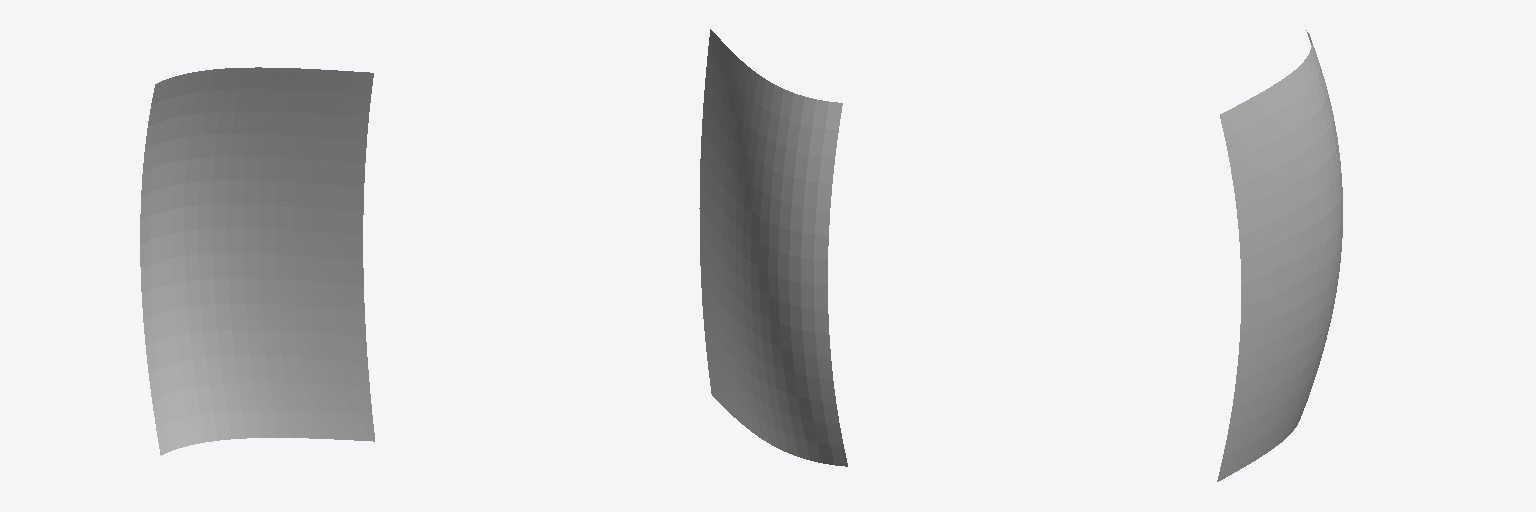
The model's file is road2.obj.
3 renders of one model, left to right at view 1: azimuth 30°, elevation 25°; view 2: azimuth 150°, elevation 25°; view 3: azimuth 270°, elevation 25°, orthographic.
Visible parts, largest first — view 1: SurfPatch; view 2: SurfPatch; view 3: SurfPatch.
Boxes of the visible parts, x1,y1,x2,y2 form: SurfPatch: [140, 67, 374, 455]; SurfPatch: [699, 29, 847, 466]; SurfPatch: [1217, 30, 1342, 481].
Bounding box in the file's own units: 10 × 20 × 6.23.